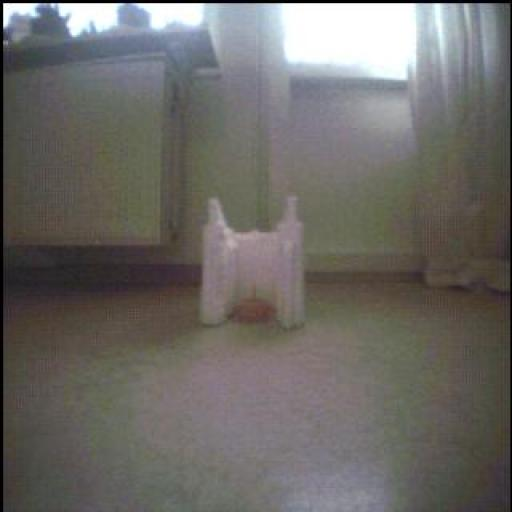Basket: (236, 281, 273, 323)
